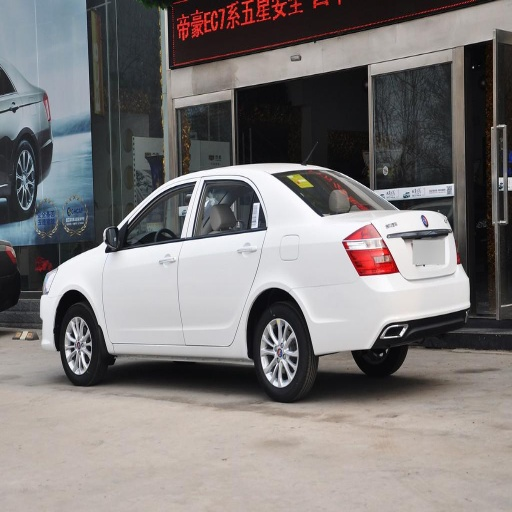back_bumper: (302, 271, 472, 357)
back_glass: (275, 170, 407, 214)
back_left_door: (178, 176, 270, 343)
